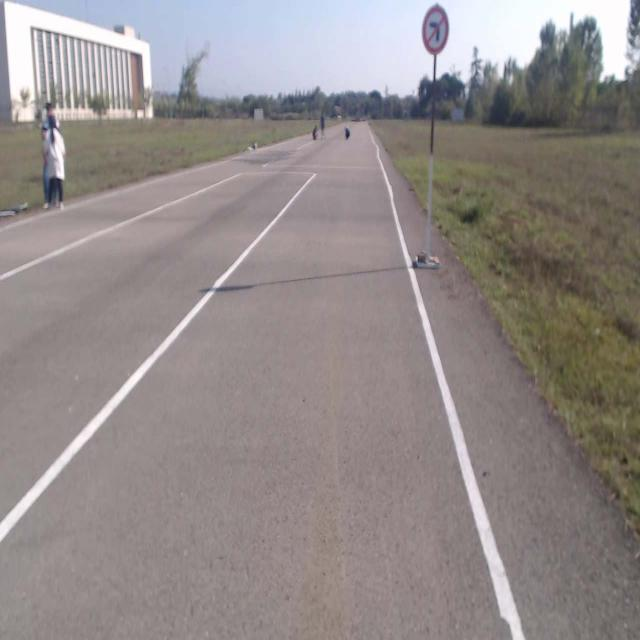soladonulmez: (422, 6, 450, 54)
